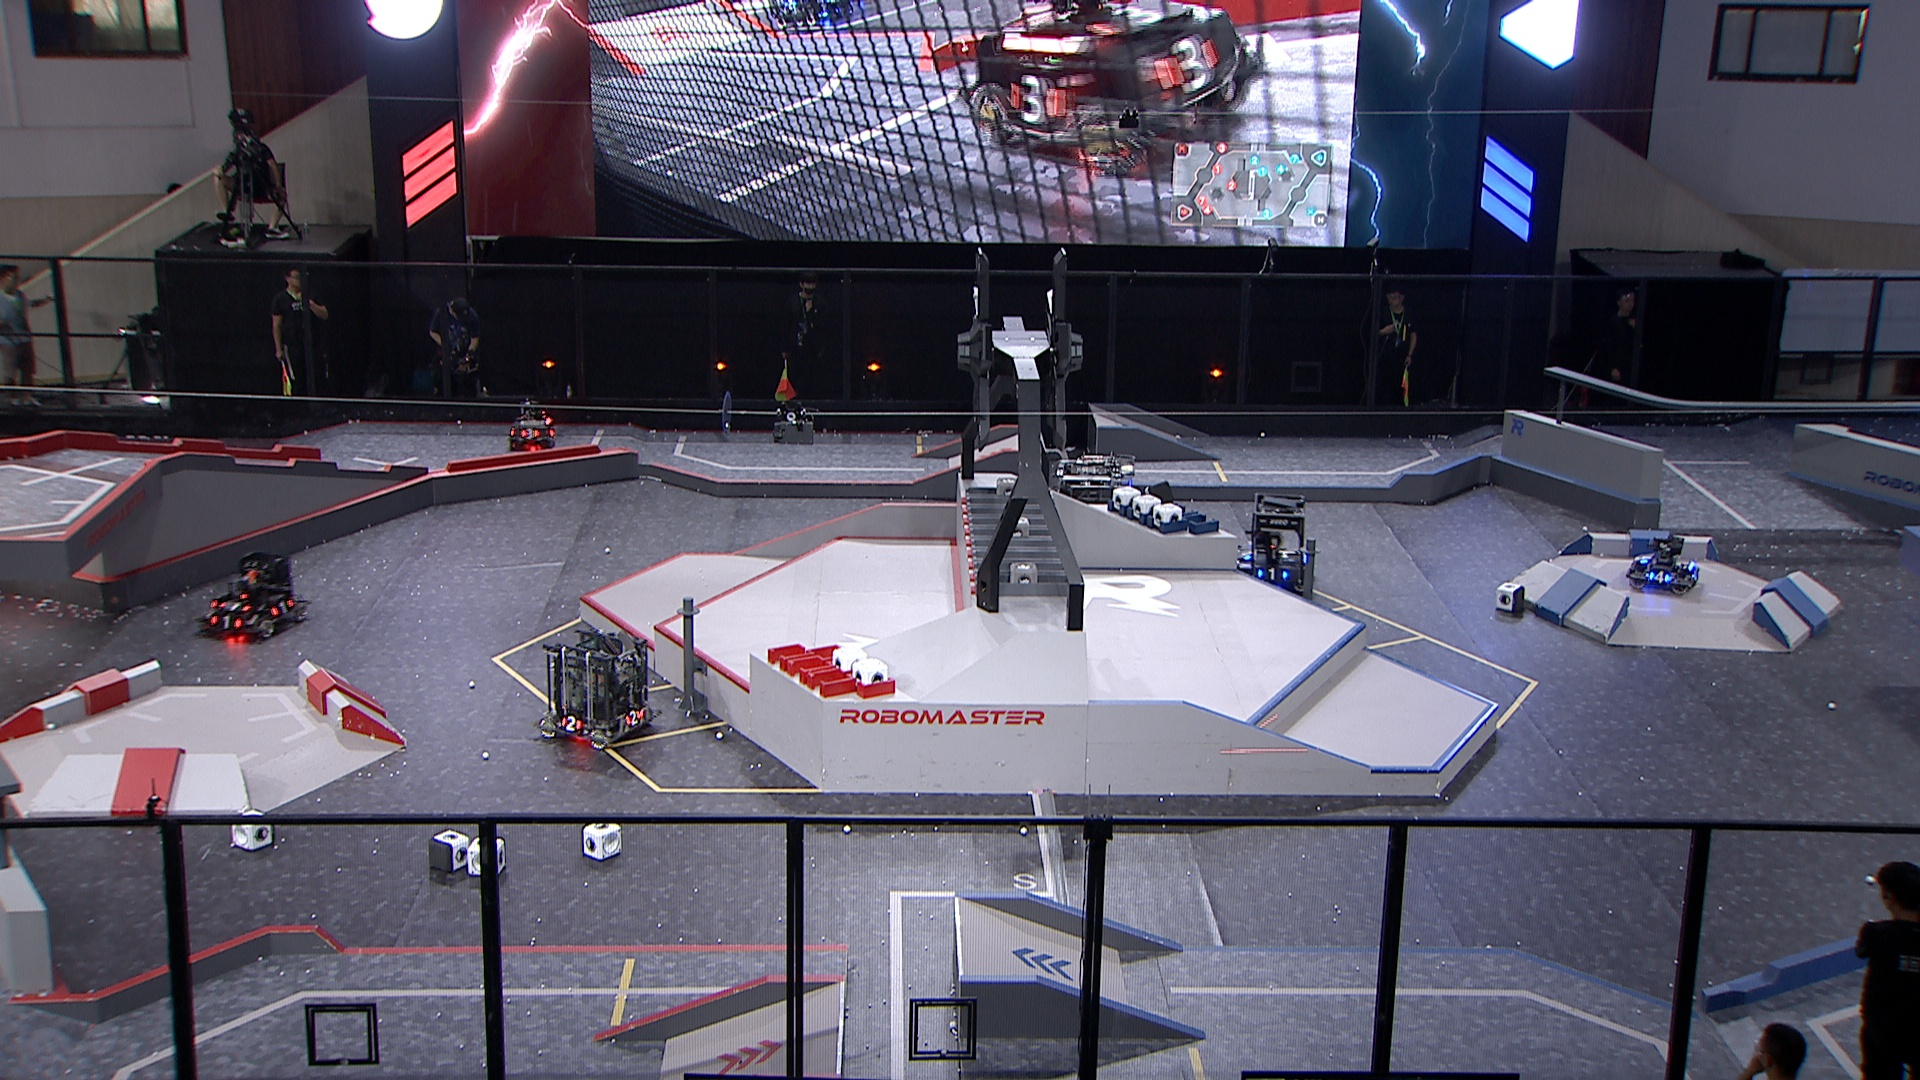armor: (1257, 566, 1290, 583), (210, 613, 243, 628), (272, 599, 295, 618), (220, 597, 249, 613), (622, 708, 642, 727), (1646, 570, 1671, 584), (560, 717, 580, 732), (518, 429, 539, 440), (1240, 547, 1253, 564), (1691, 567, 1702, 585), (1636, 551, 1651, 564)
car: (534, 626, 659, 746), (200, 547, 311, 641), (1044, 450, 1149, 538), (1234, 495, 1317, 597), (1622, 531, 1700, 599), (502, 400, 558, 452)
